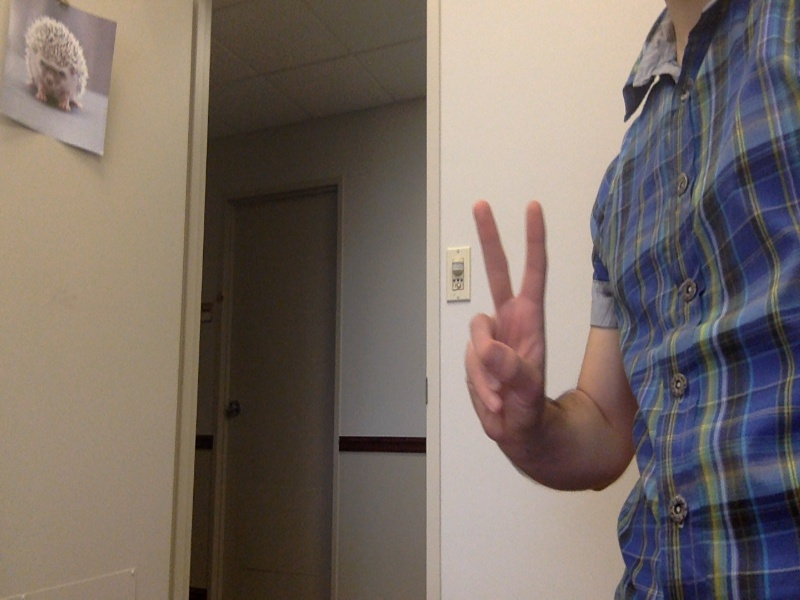2-hand: (468, 200, 548, 452)
